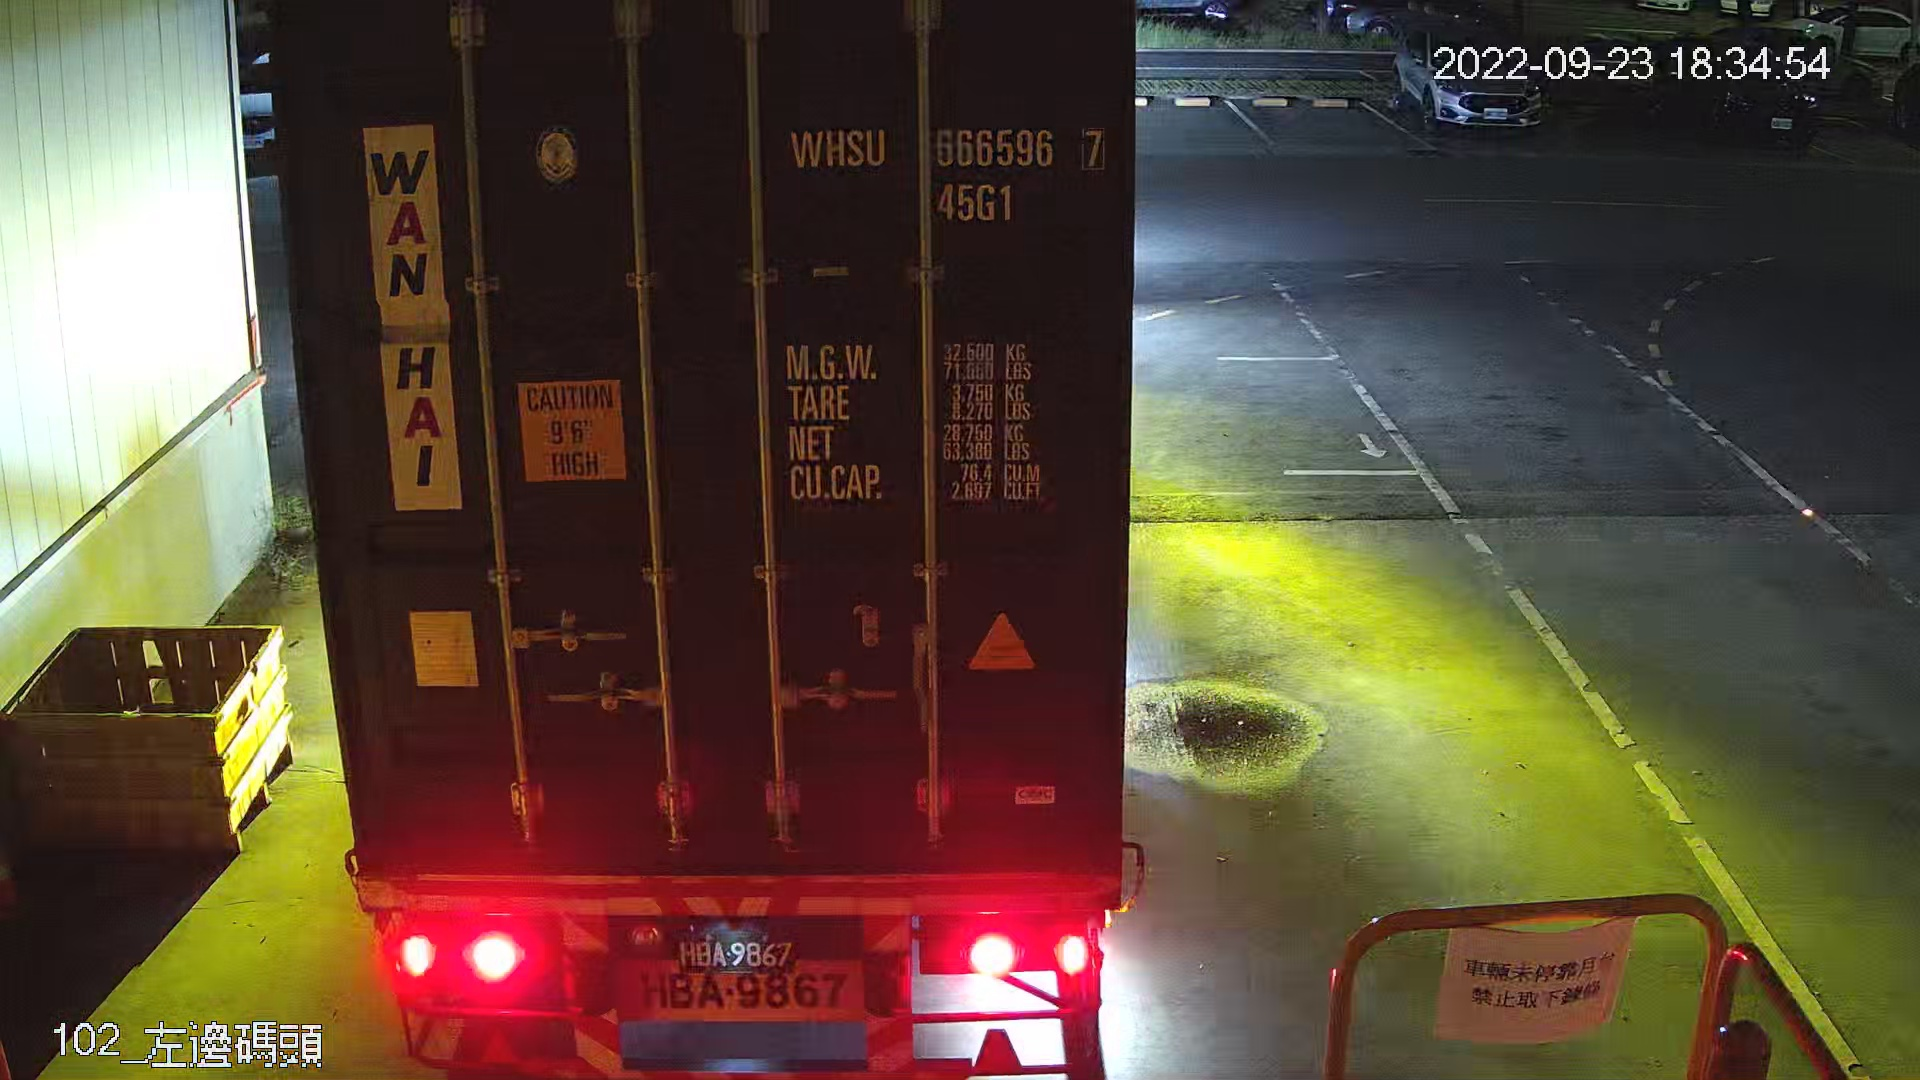container: (781, 113, 1122, 229)
